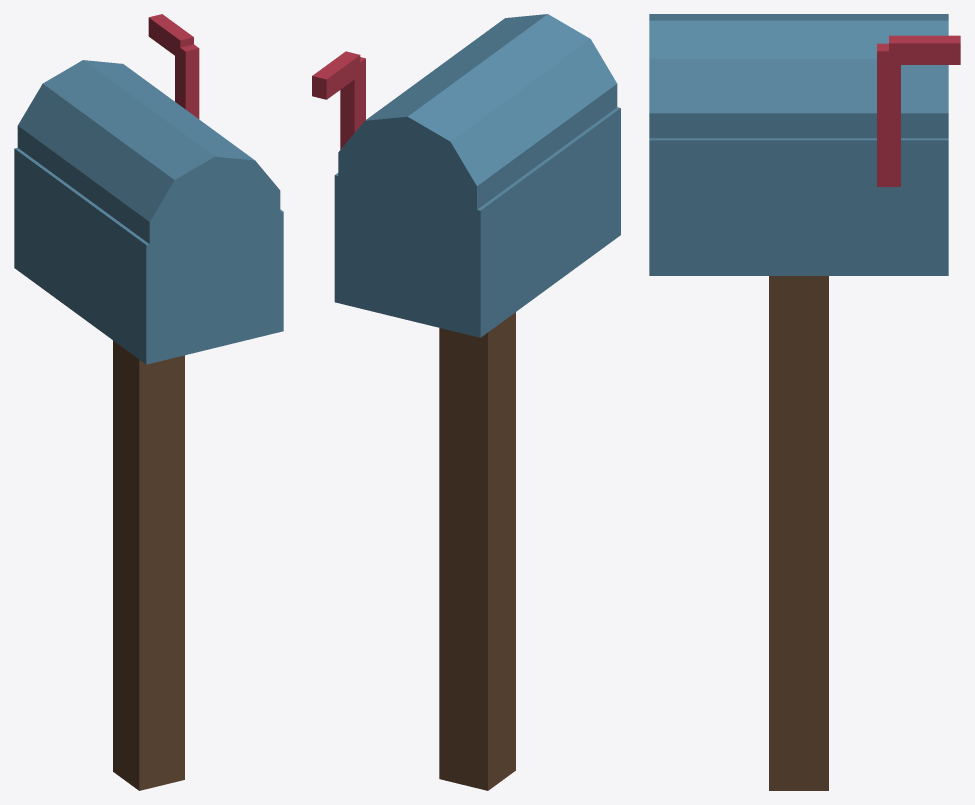
The model's file is mailbox.glb.
3 views of the same model, side by side, from view 1: azimuth 30°, elevation 25°; view 2: azimuth 150°, elevation 25°; view 3: azimuth 270°, elevation 25° (orthographic). The views are drawn at different scales.
Parts seen in each view (by area): view 1: mailbox; view 2: mailbox; view 3: mailbox.
Boxes of the visible parts, <box> form: mailbox: <box>14,14,283,790</box>; mailbox: <box>312,14,620,790</box>; mailbox: <box>649,14,960,790</box>.
Bounding box in the file's own units: 0.335 × 1.44 × 0.52.
